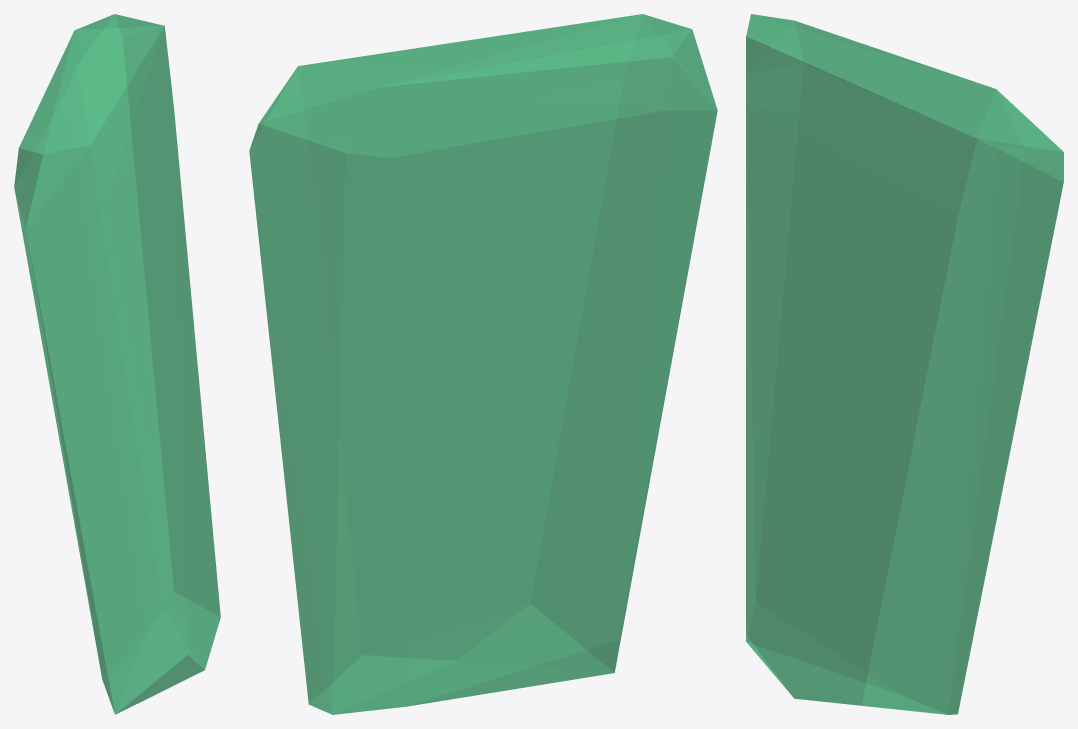
3 views of the same model, side by side, from view 1: azimuth 30°, elevation 25°; view 2: azimuth 150°, elevation 25°; view 3: azimuth 270°, elevation 25° (orthographic). The views are drawn at different scales.
Parts seen in each view (by area): view 1: Shape_IndexedFaceSet.035_Shape_IndexedFaceSet.6442; view 2: Shape_IndexedFaceSet.035_Shape_IndexedFaceSet.6442; view 3: Shape_IndexedFaceSet.035_Shape_IndexedFaceSet.6442.
Part boxes in pixels (x1,y1,x2,y2): Shape_IndexedFaceSet.035_Shape_IndexedFaceSet.6442: [14, 14, 220, 714]; Shape_IndexedFaceSet.035_Shape_IndexedFaceSet.6442: [249, 14, 717, 714]; Shape_IndexedFaceSet.035_Shape_IndexedFaceSet.6442: [746, 14, 1063, 714].
Size of the model in its own units: 0.1975 by 0.4331 by 0.2102.
